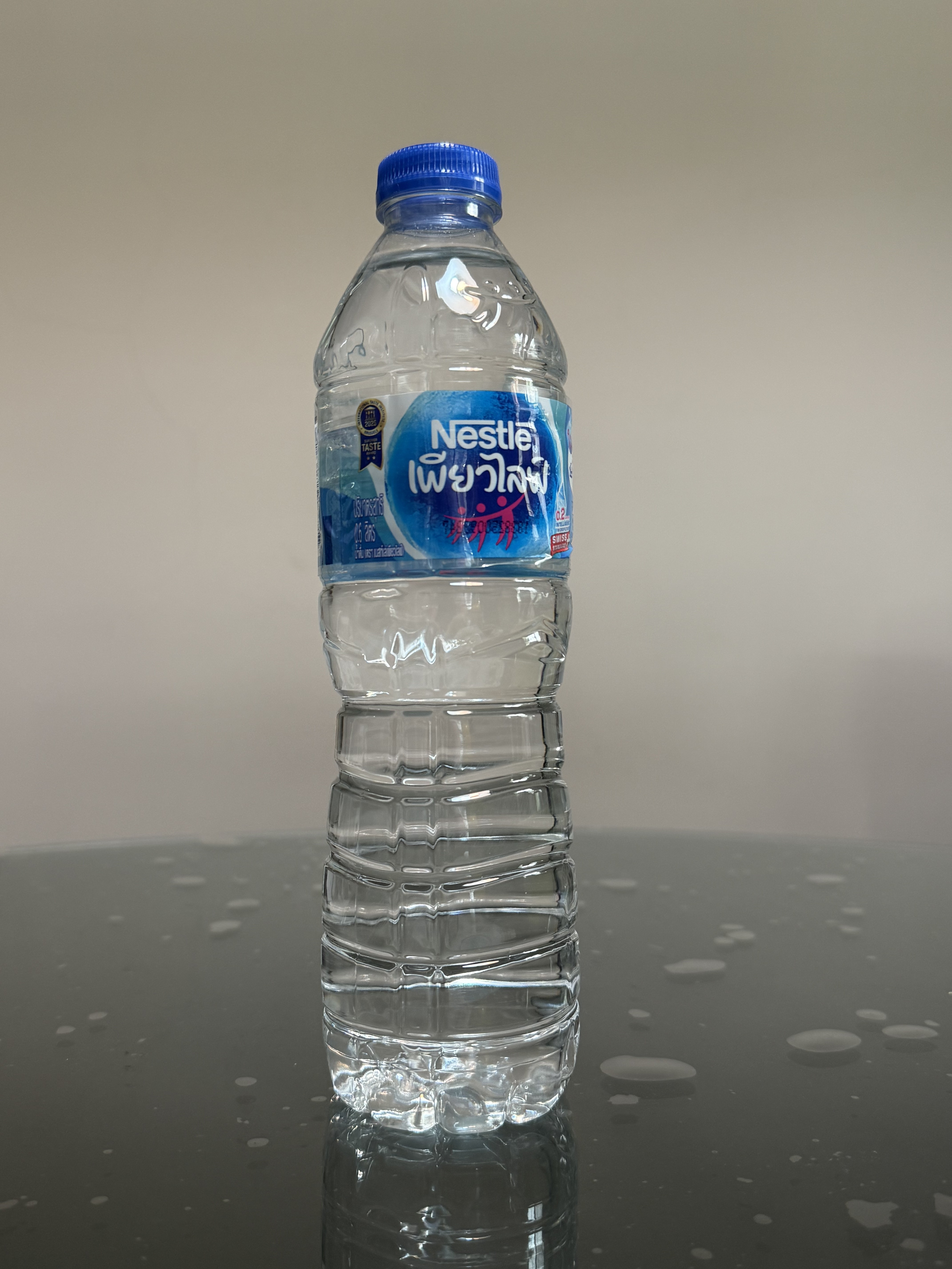closed_cap: (373, 138, 504, 225)
